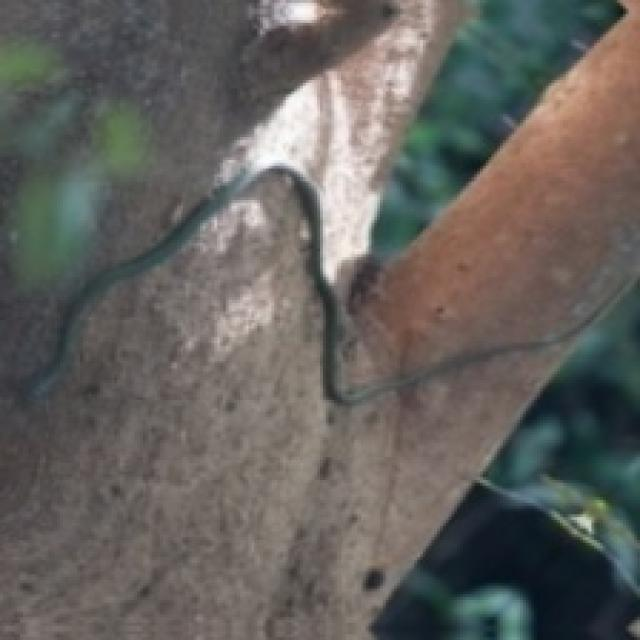paradise tree snake: (17, 163, 549, 403)
